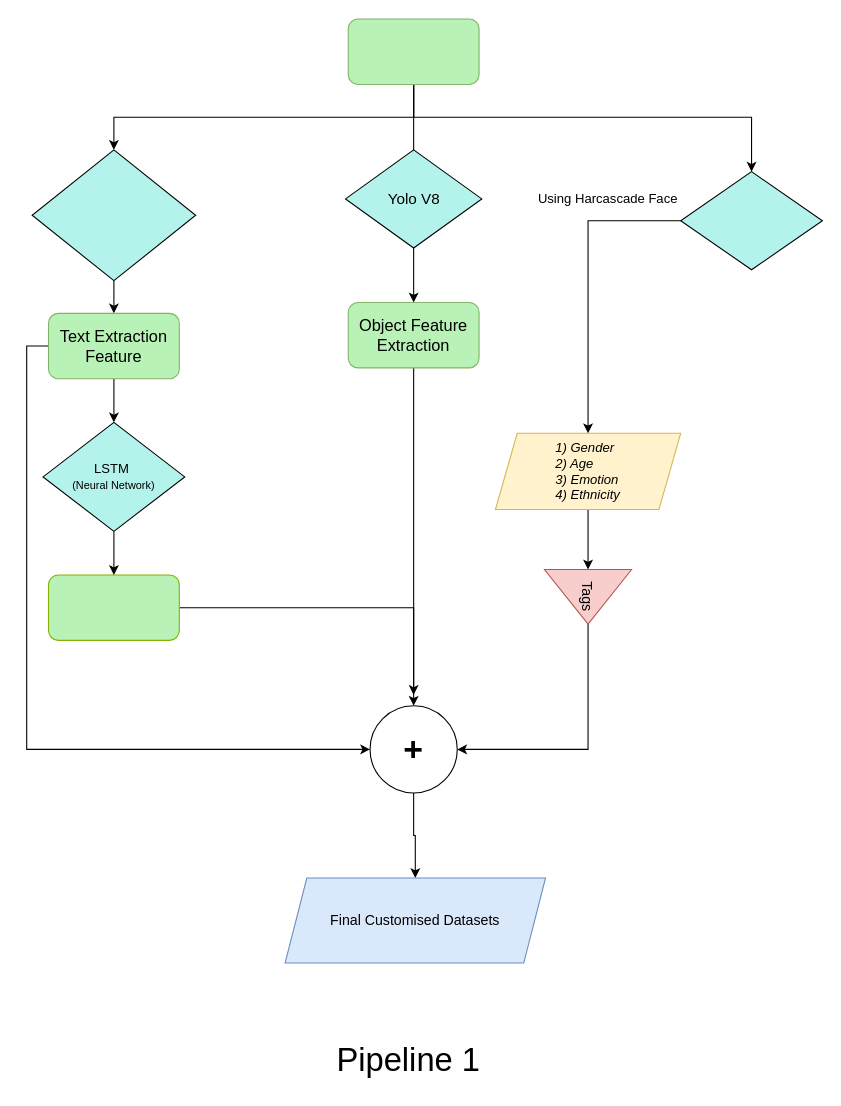
This 841x1106 diagram has some shape labels left out. Here are the shapes that lost their labels. From the top down, the centre of each, then its label:
the point at 413,51: Memes
the point at 113,215: Qwen 2-VL-7B-Instruct VLM
the point at 751,220: Open CV DeepFace
the point at 113,607: Sentiment Analysis
